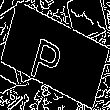P_N: (35, 25, 75, 85)
